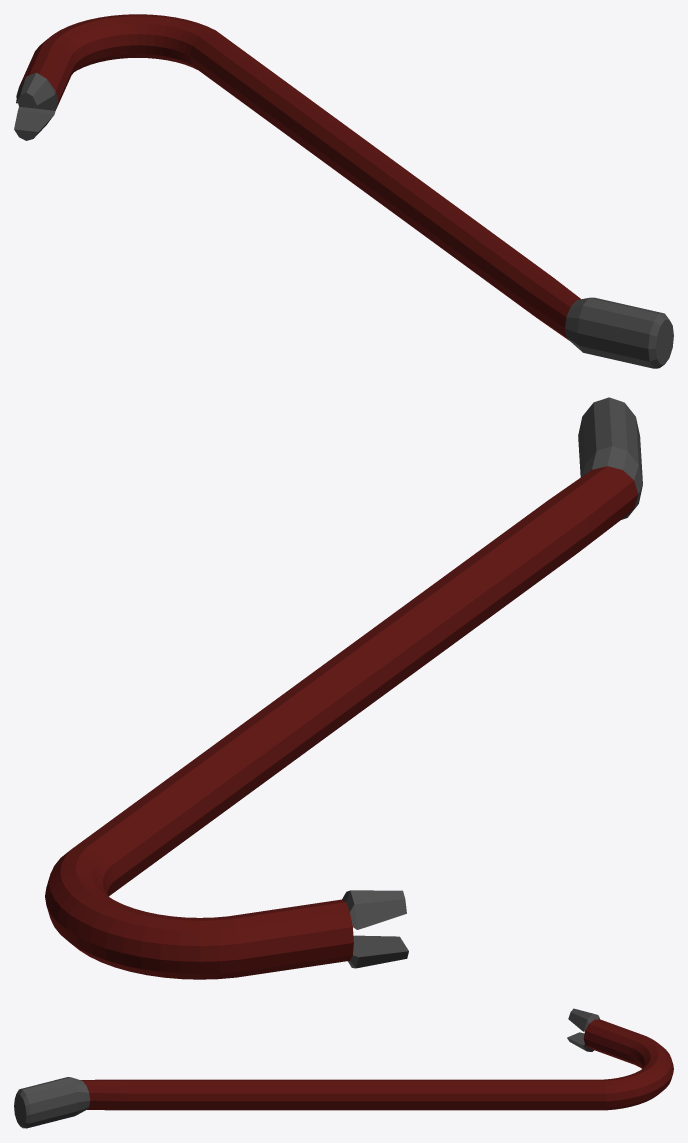
The model's file is palanca.FBX.
The picture shows the model from 3 angles, top to bottom: view 1: azimuth 30°, elevation 25°; view 2: azimuth 150°, elevation 25°; view 3: azimuth 270°, elevation 25°; orthographic projection. The views are drawn at different scales.
Parts seen in each view (by area): view 1: Torus; view 2: Torus; view 3: Torus.
Part boxes in pixels (x1,y1,x2,y2): Torus: [14, 14, 673, 368]; Torus: [45, 397, 642, 979]; Torus: [14, 1008, 673, 1128].
Bounding box in the file's own units: 31.68 × 6.19 × 95.03.
